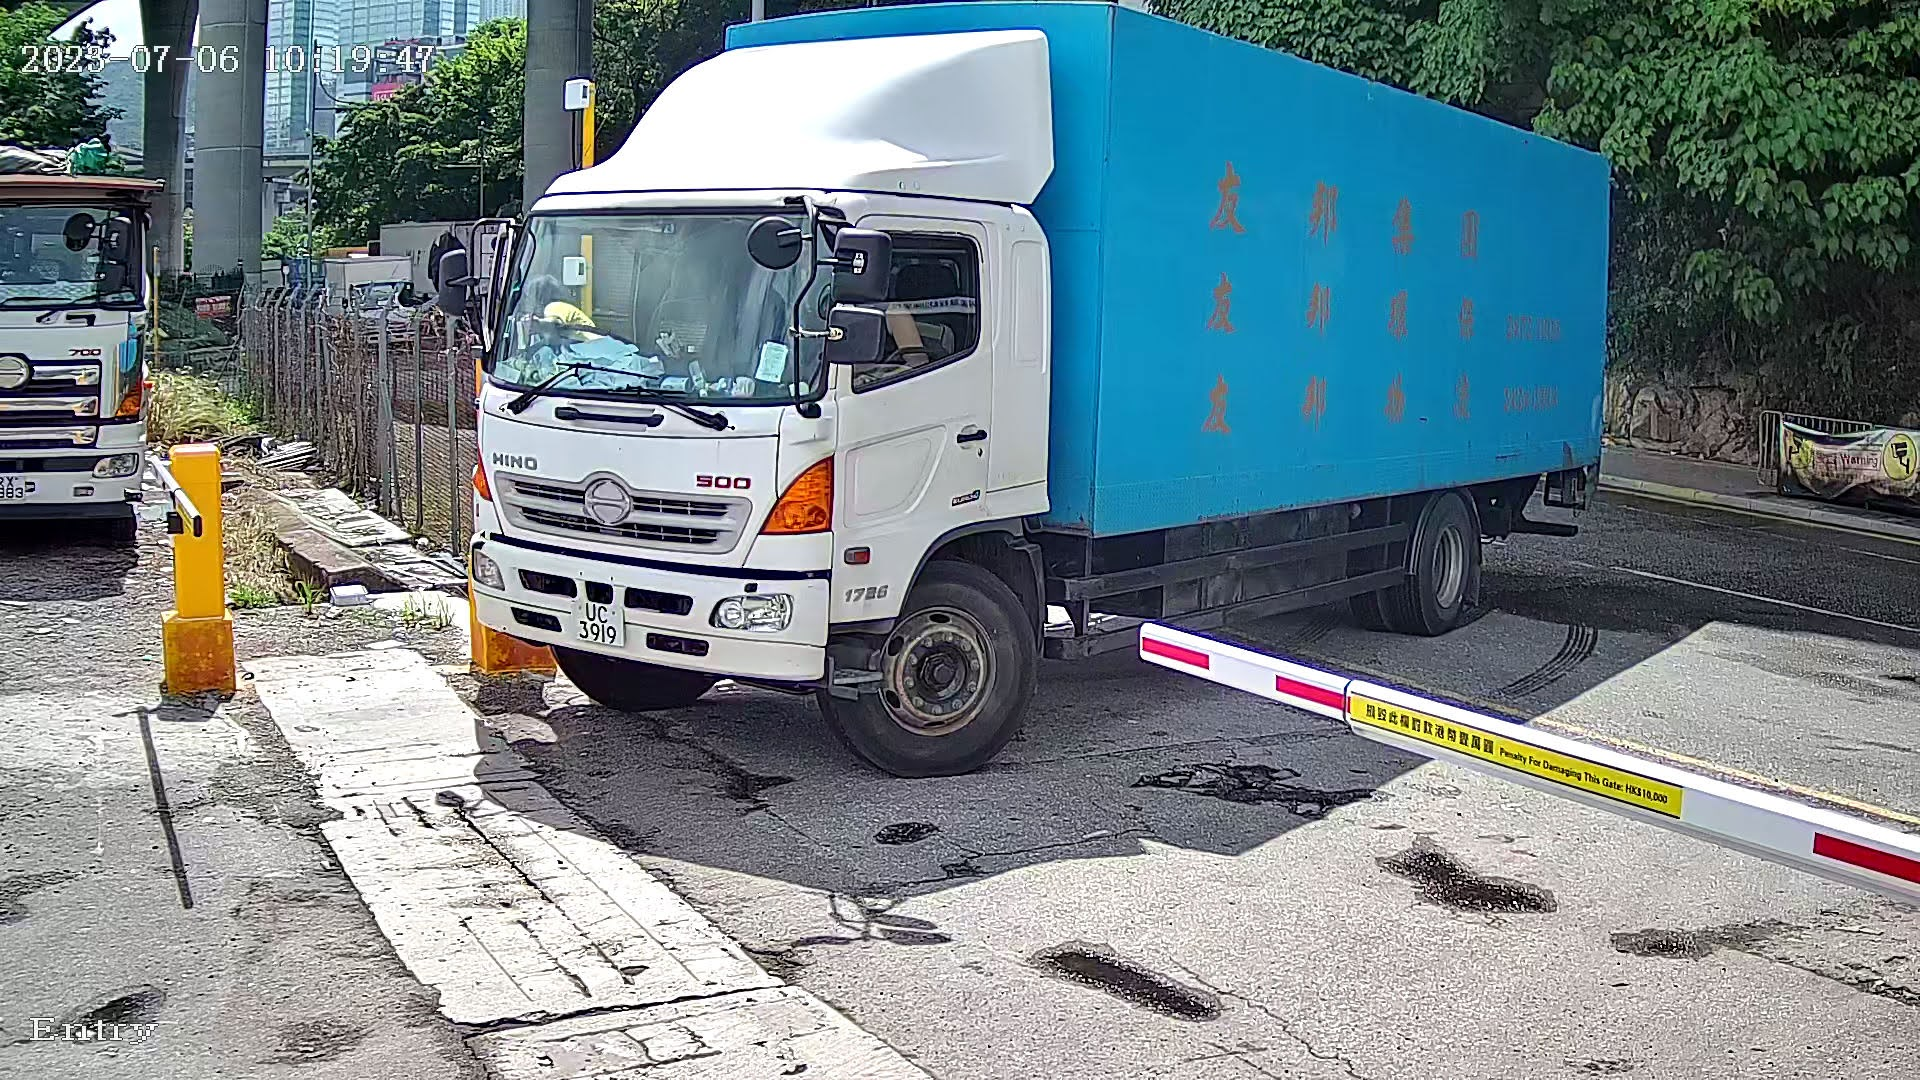truck_large: (393, 1, 1687, 848)
